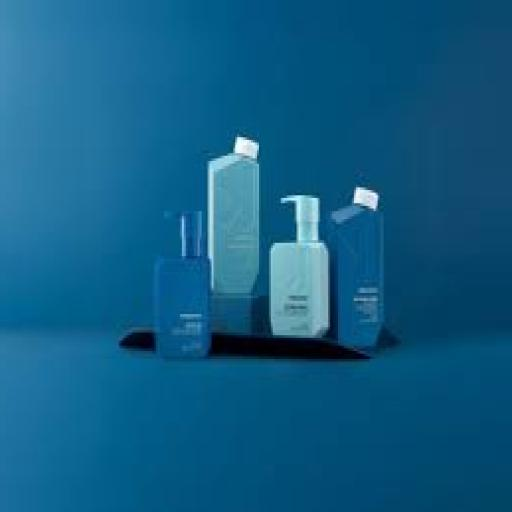blue-bottle: (324, 187, 384, 346), (271, 193, 330, 335), (210, 135, 261, 296), (156, 211, 212, 356)
